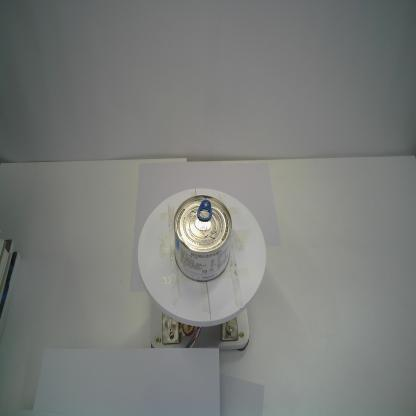Canned Food: (174, 194, 233, 282)
